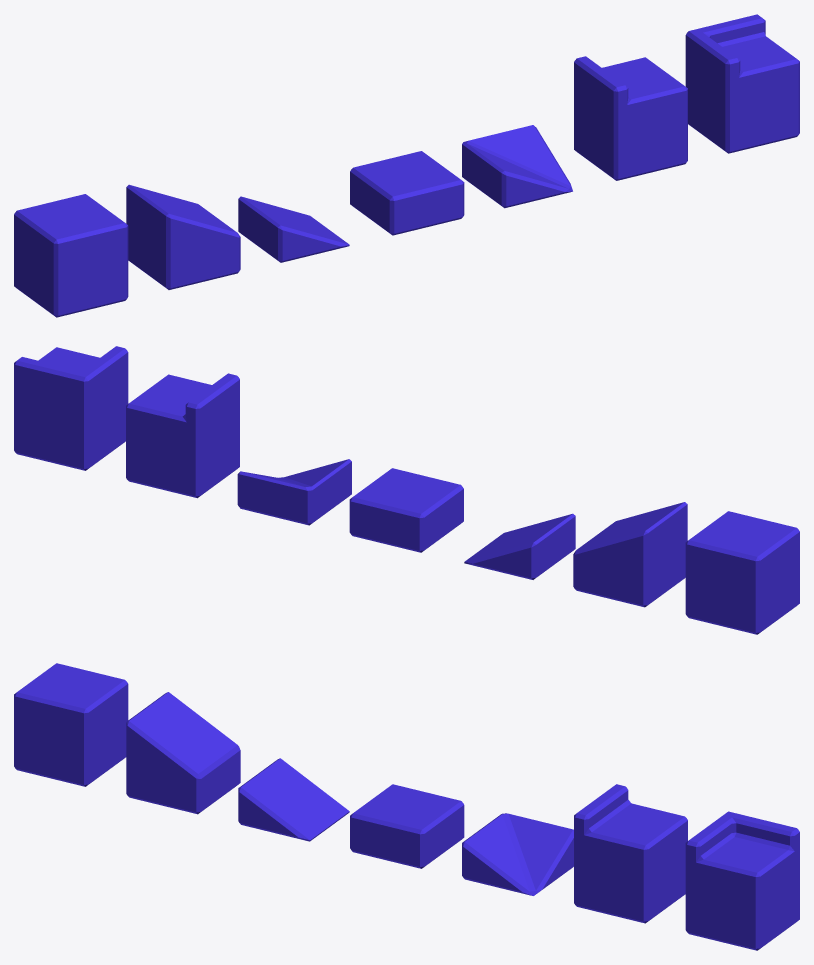
Rendered from world-blocks-v1.glb.
The picture shows the model from 3 angles, top to bottom: view 1: azimuth 30°, elevation 25°; view 2: azimuth 150°, elevation 25°; view 3: azimuth 330°, elevation 25°; orthographic projection.
Parts seen in each view (by area): view 1: BlockWallCorner, BlockWall, Block, RampTop, BlockShort, RampLowerCorner, RampBottom; view 2: BlockWallCorner, BlockWall, Block, RampTop, BlockShort, RampLowerCorner, RampBottom; view 3: BlockWallCorner, BlockWall, Block, RampTop, BlockShort, RampLowerCorner, RampBottom.
Part boxes in pixels (x1,y1,x2,y2): BlockWallCorner: [685, 14, 799, 153]; BlockWall: [574, 56, 687, 180]; Block: [14, 194, 128, 317]; RampTop: [126, 184, 240, 289]; BlockShort: [350, 151, 464, 235]; RampLowerCorner: [462, 125, 572, 208]; RampBottom: [238, 196, 349, 262]; BlockWallCorner: [14, 346, 128, 470]; BlockWall: [126, 373, 239, 498]; Block: [685, 511, 799, 634]; RampTop: [573, 502, 687, 607]; BlockShort: [349, 468, 463, 552]; RampLowerCorner: [237, 459, 351, 525]; RampBottom: [464, 513, 575, 579]; BlockWallCorner: [685, 811, 799, 950]; BlockWall: [574, 784, 687, 923]; Block: [14, 663, 128, 786]; RampTop: [126, 692, 240, 814]; BlockShort: [350, 784, 464, 868]; RampLowerCorner: [462, 813, 573, 895]; RampBottom: [238, 758, 349, 841].
Size of what is drawn, in the model's own units: 20.01 by 2.4 by 2.
